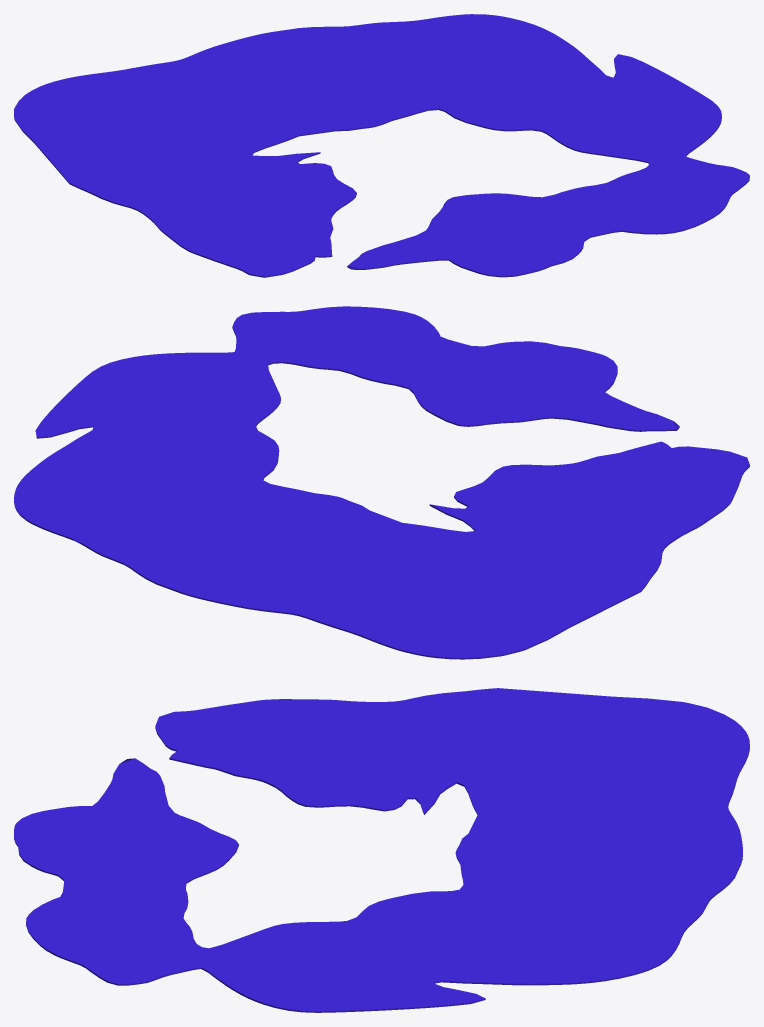
The model's file is water_2m4_collision.glb.
3 renders of one model, top to bottom at view 1: azimuth 30°, elevation 25°; view 2: azimuth 150°, elevation 25°; view 3: azimuth 270°, elevation 25°, orthographic. The views are drawn at different scales.
Visible parts, largest first — view 1: water; view 2: water; view 3: water.
Boxes of the visible parts, x1,y1,x2,y2 form: water: [14, 14, 749, 277]; water: [14, 306, 749, 659]; water: [14, 688, 749, 1012].
Bounding box in the file's own units: 1339 × 3 × 1288.
